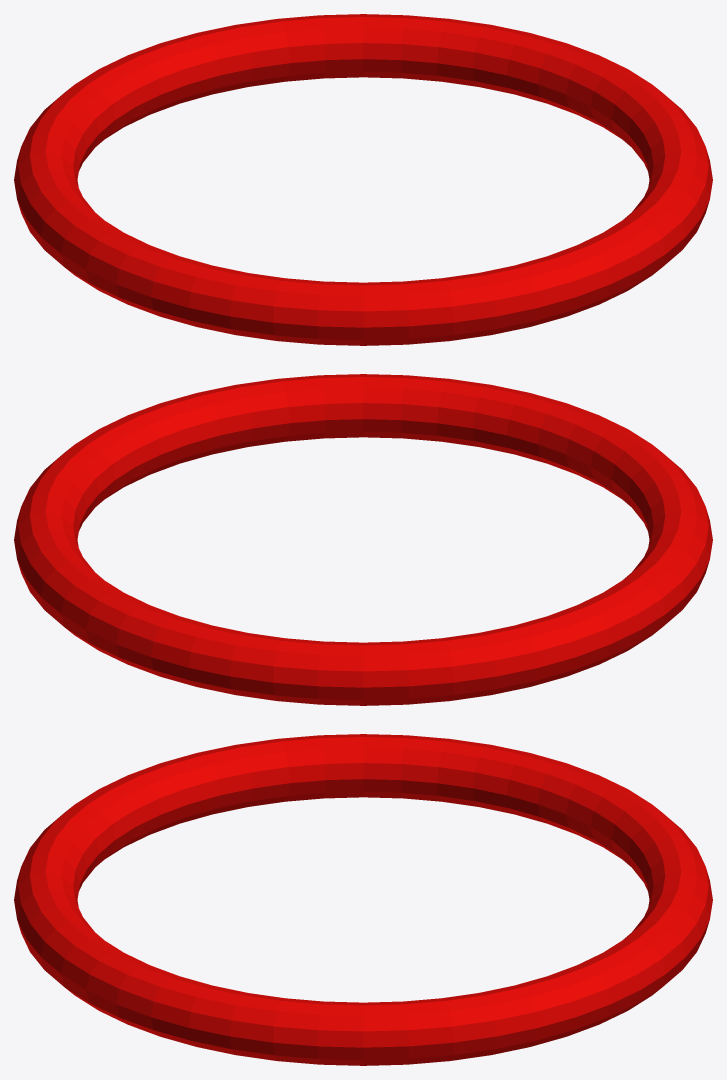
The model's file is BasketballHoop.fbx.
The picture shows the model from 3 angles, top to bottom: view 1: azimuth 30°, elevation 25°; view 2: azimuth 150°, elevation 25°; view 3: azimuth 270°, elevation 25°; orthographic projection.
Visible parts, largest first — view 1: Torus.001; view 2: Torus.001; view 3: Torus.001.
Part boxes in pixels (x1=…): Torus.001: x1=14, y1=14, x2=712, y2=345; Torus.001: x1=14, y1=374, x2=712, y2=705; Torus.001: x1=14, y1=734, x2=712, y2=1065.
Size of the model in its own units: 2.2 by 0.2 by 2.2.
